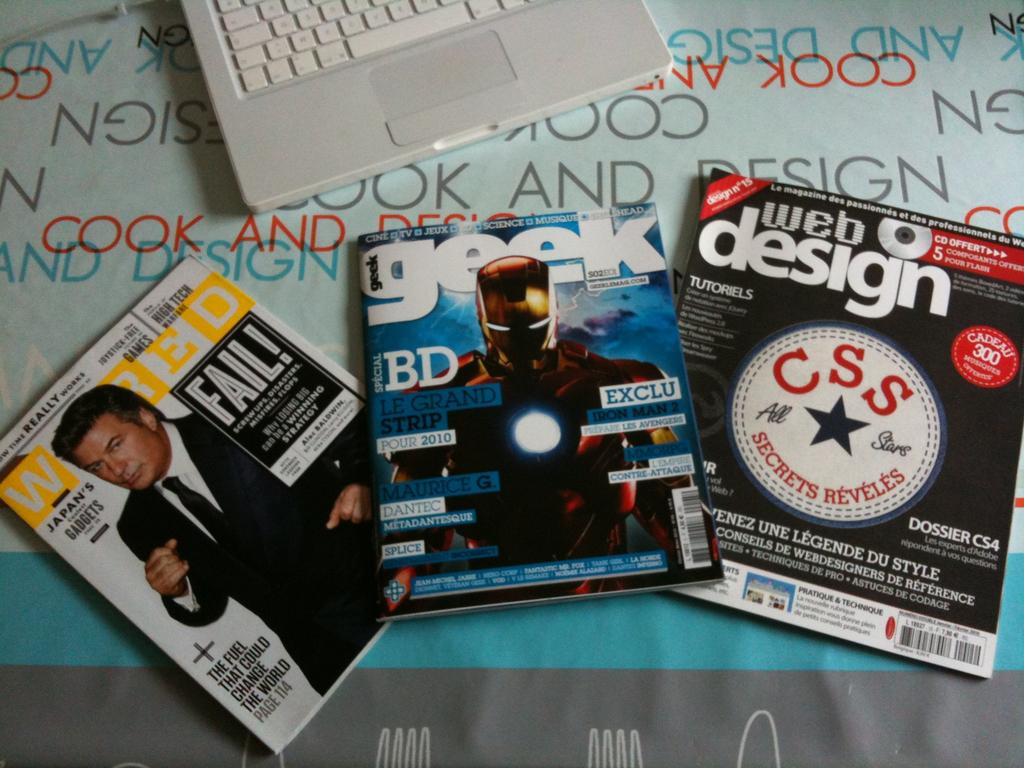Computer-keyboard: (212, 0, 543, 94)
